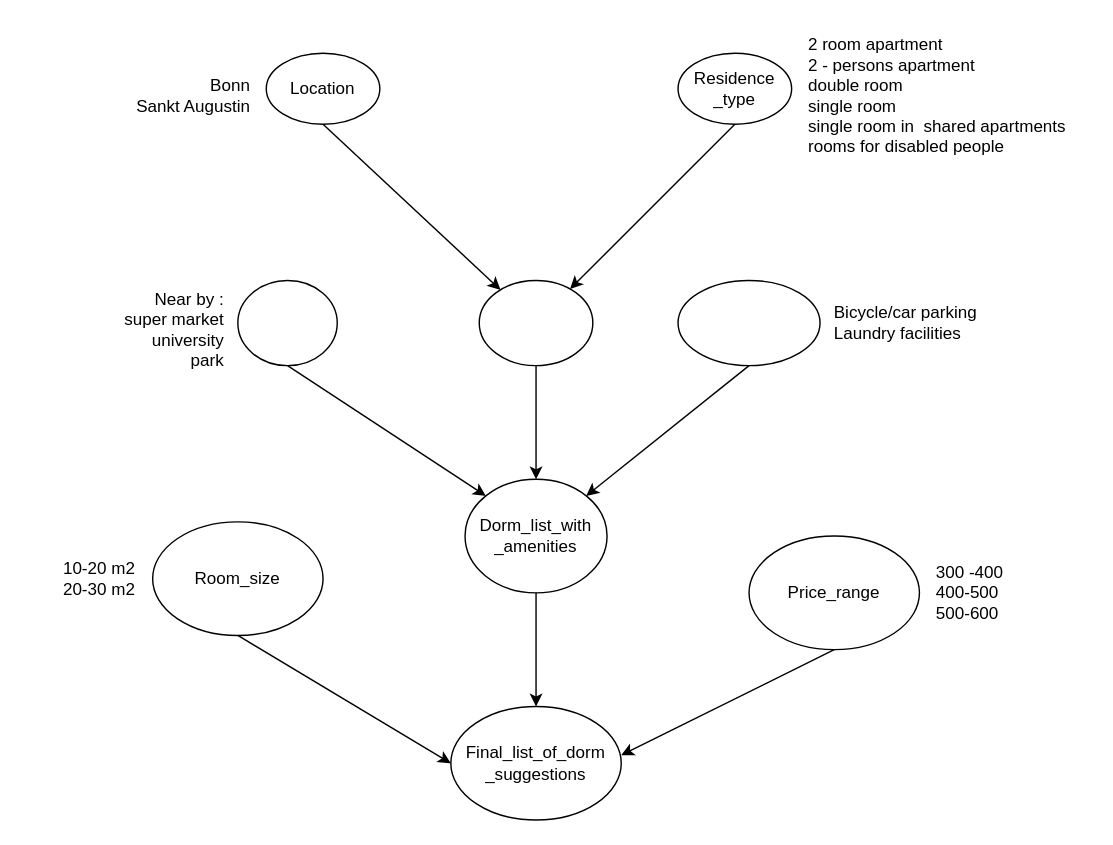
This 1113x845 diagram has some shape labels left out. Each missing label, with the box of its shape:
House_equipment: (677, 279, 820, 366)
Places _around: (236, 279, 337, 366)
Primary_dorm _list: (478, 279, 593, 366)
